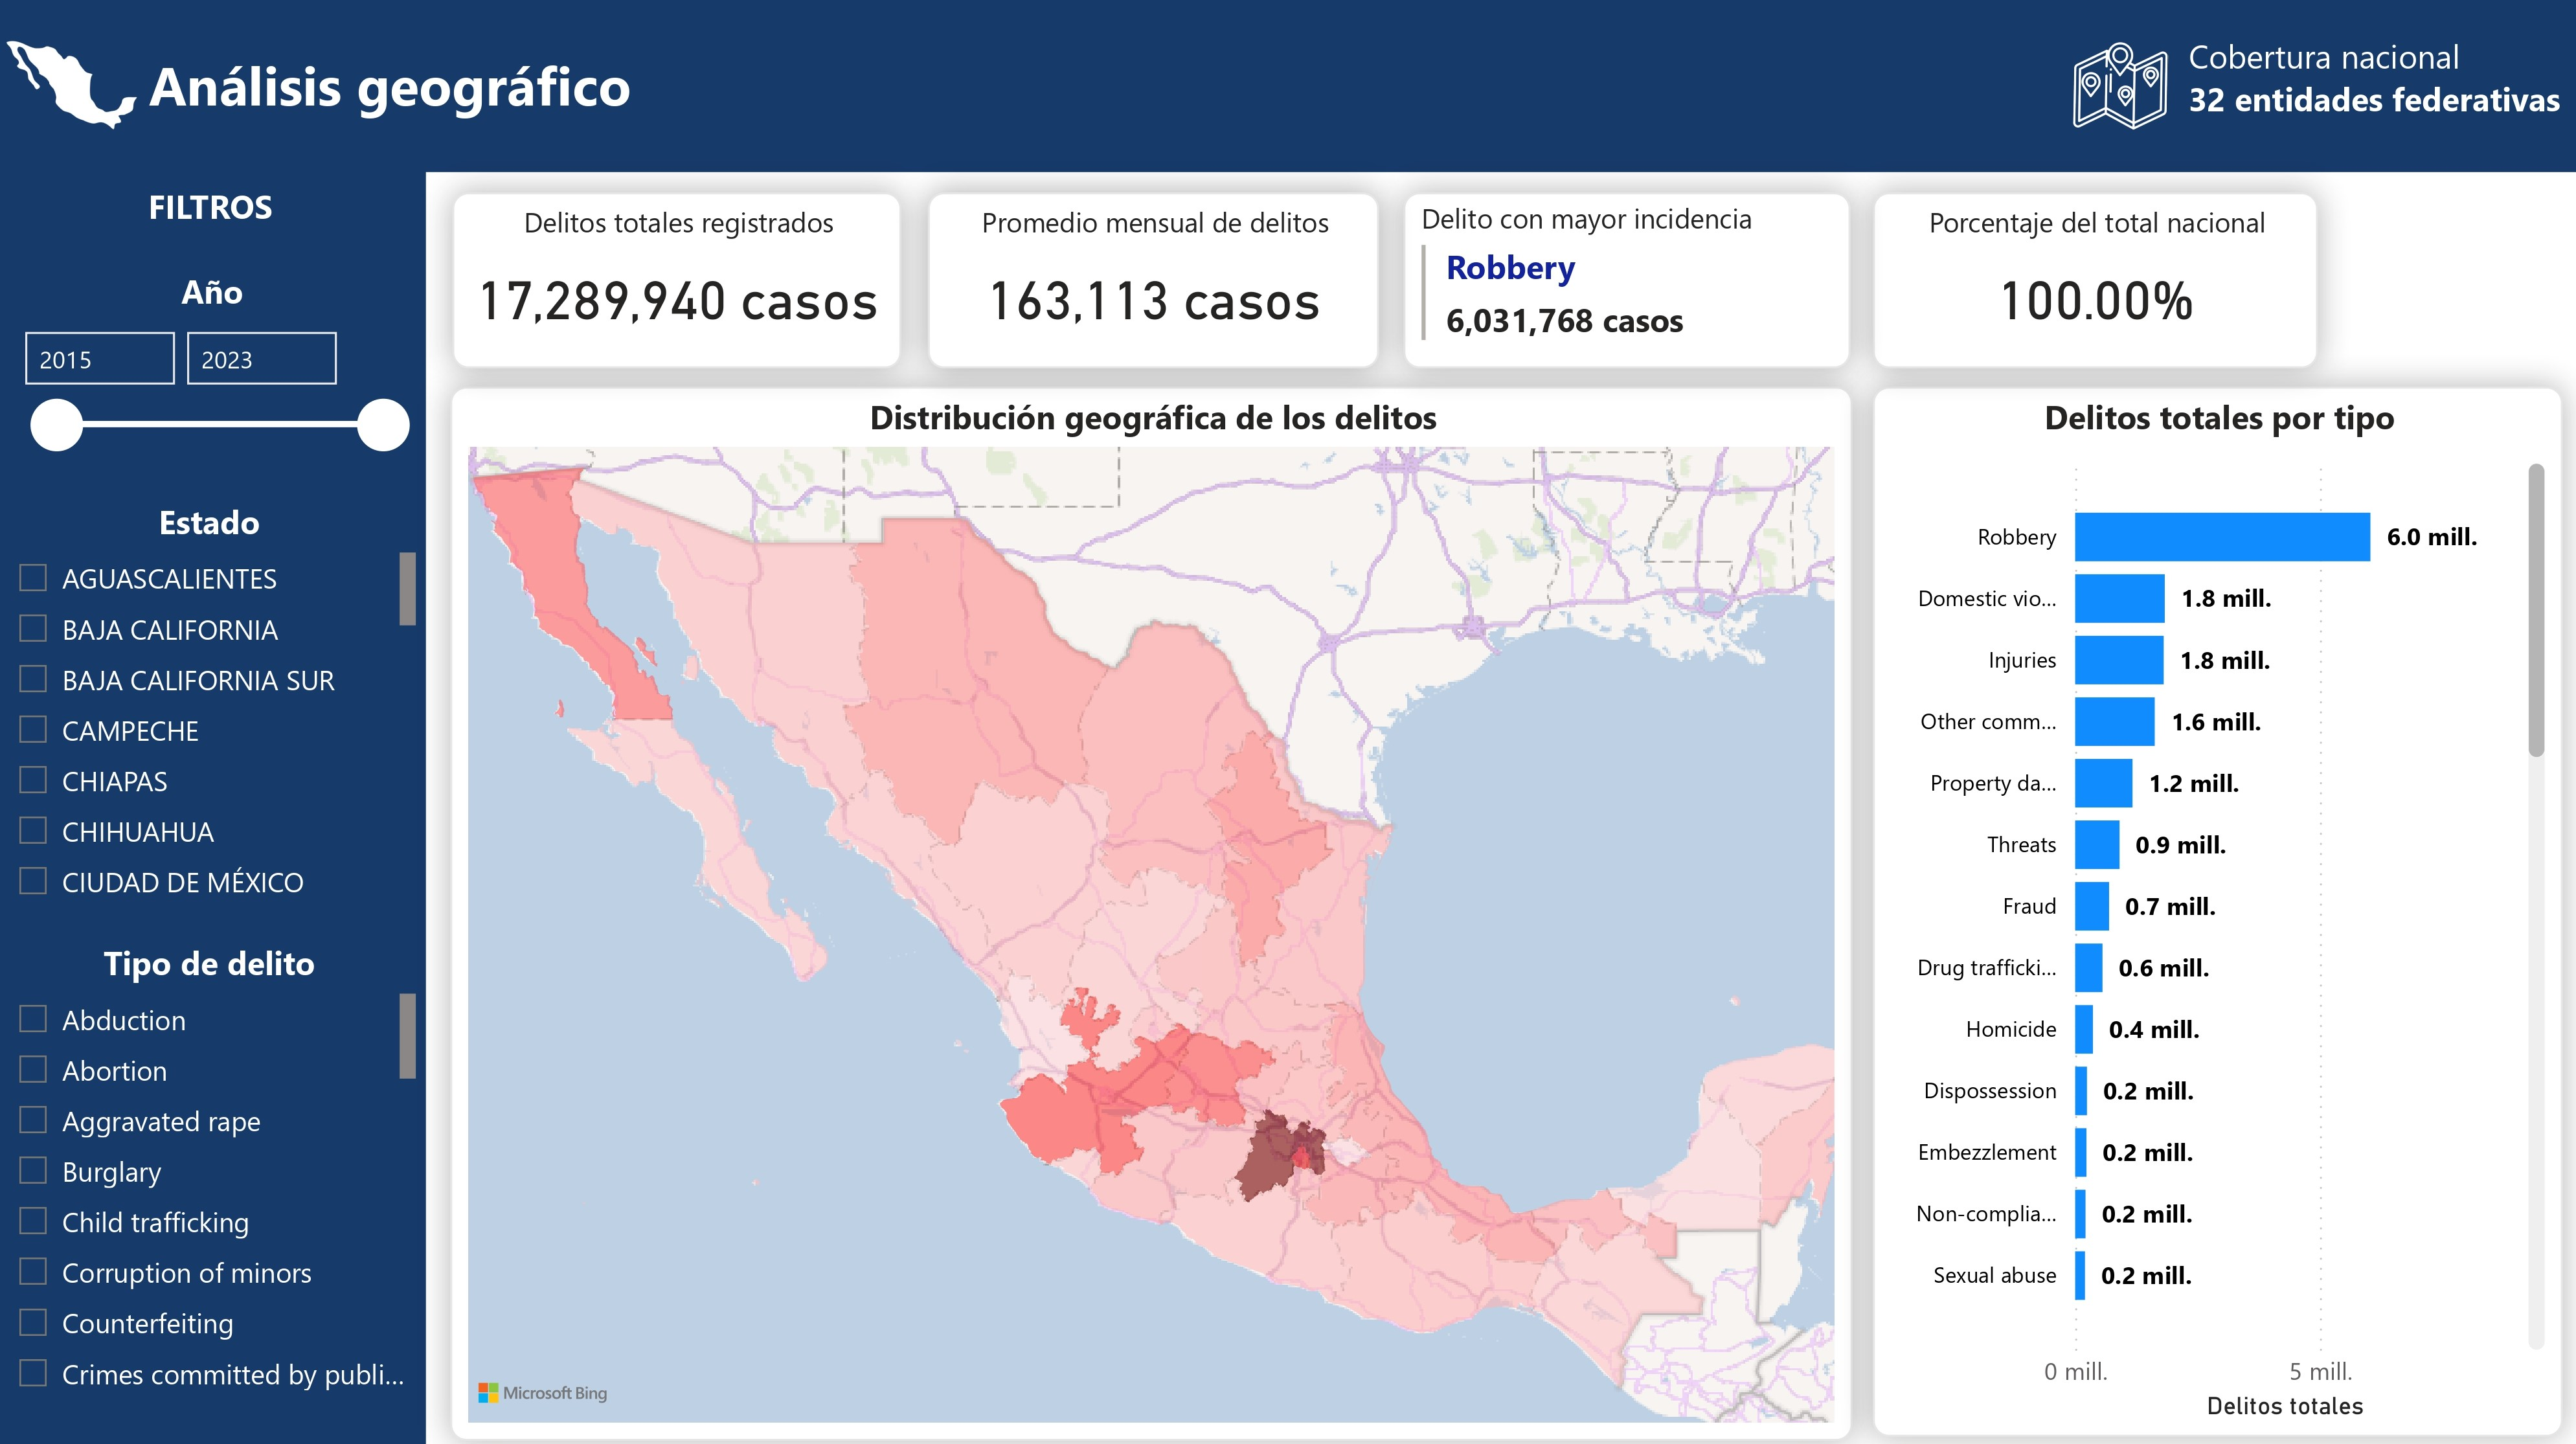

This screenshot's page, from the dashboard's own definition file:
{"tool":"powerbi","page":{"name":"Análisis geográfico","canvas":[1280,720],"ordinal":1},"visuals":[{"type":"shape","box":[0,43.3,214.2,674.2],"z":0},{"type":"shape","box":[0,0,1280.2,86.4],"z":1000},{"type":"filledMap","title":"Distribución geográfica de los delitos","fields":{"Category":["dim_estado.estado"]},"box":[226.4,191.8,692.7,520.9],"z":2000},{"type":"clusteredBarChart","title":"Delitos totales por tipo","fields":{"Category":["dim_delito.tipo_delito"],"Y":["Medidas.Total delitos"]},"box":[928.8,191.5,341.3,519.8],"z":3000},{"type":"card","title":"Porcentaje del total nacional","fields":{"Values":["Medidas.% del total nacional"]},"box":[928.7,96,220.7,86.7],"z":4000},{"type":"textbox","box":[72,18.7,262.1,49],"z":5000},{"type":"image","box":[6.5,19.8,65.4,46.8],"z":6000},{"type":"slicer","title":"Año","fields":{"Values":["dim_fecha.anio"]},"box":[3.3,134.4,211.1,113.3],"z":7000},{"type":"slicer","title":"Estado","fields":{"Values":["dim_estado.estado"]},"box":[0,247.8,214.4,203.3],"z":8000},{"type":"slicer","title":"Tipo de delito","fields":{"Values":["dim_delito.tipo_delito"]},"box":[0,465.6,214.4,234.4],"z":9000},{"type":"multiRowCard","title":"Delito con mayor incidencia","fields":{"Values":["Medidas.Delitos del tipo más frecuente","Medidas.Delito más frecuente"]},"box":[696.7,95.8,221.7,86.7],"z":10000},{"type":"textbox","box":[71.1,86.7,73.3,33.3],"z":11000},{"type":"card","title":"Delitos totales registrados","fields":{"Values":["Medidas.Total delitos"]},"box":[226.7,95.8,222.5,86.7],"z":12000},{"type":"card","title":"Promedio mensual de delitos","fields":{"Values":["Medidas.Promedio mensual delitos"]},"box":[461.7,95.8,223.3,86.7],"z":13000},{"type":"textbox","box":[1080,12.7,200,60.9],"z":14000},{"type":"image","box":[1028.2,19.1,47.3,48.2],"z":15000}]}

Visuals, with their boxes in screenshot pixels (x1, y1, x2, y2), scaled from the page's 1280x720 canvas onto the 2576x1444 screenshot:
shape: (0,87,431,1439)
shape: (0,0,2575,174)
"Distribución geográfica de los delitos" filledMap: (456,385,1849,1429)
"Delitos totales por tipo" clusteredBarChart: (1870,384,2556,1427)
"Porcentaje del total nacional" card: (1869,192,2313,367)
textbox: (145,38,672,136)
image: (13,39,144,133)
"Año" slicer: (6,269,431,497)
"Estado" slicer: (0,497,431,905)
"Tipo de delito" slicer: (0,934,431,1404)
"Delito con mayor incidencia" multiRowCard: (1402,192,1848,366)
textbox: (143,174,291,241)
"Delitos totales registrados" card: (457,192,904,366)
"Promedio mensual de delitos" card: (929,192,1379,366)
textbox: (2173,25,2575,148)
image: (2069,38,2164,135)
